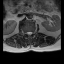CCS_normal: (28, 30, 30, 37)
LFS_normal: (32, 30, 34, 35)
LLS_normal: (30, 30, 32, 35)
RFS_normal: (24, 30, 26, 35)
RLS_normal: (26, 30, 28, 36)
